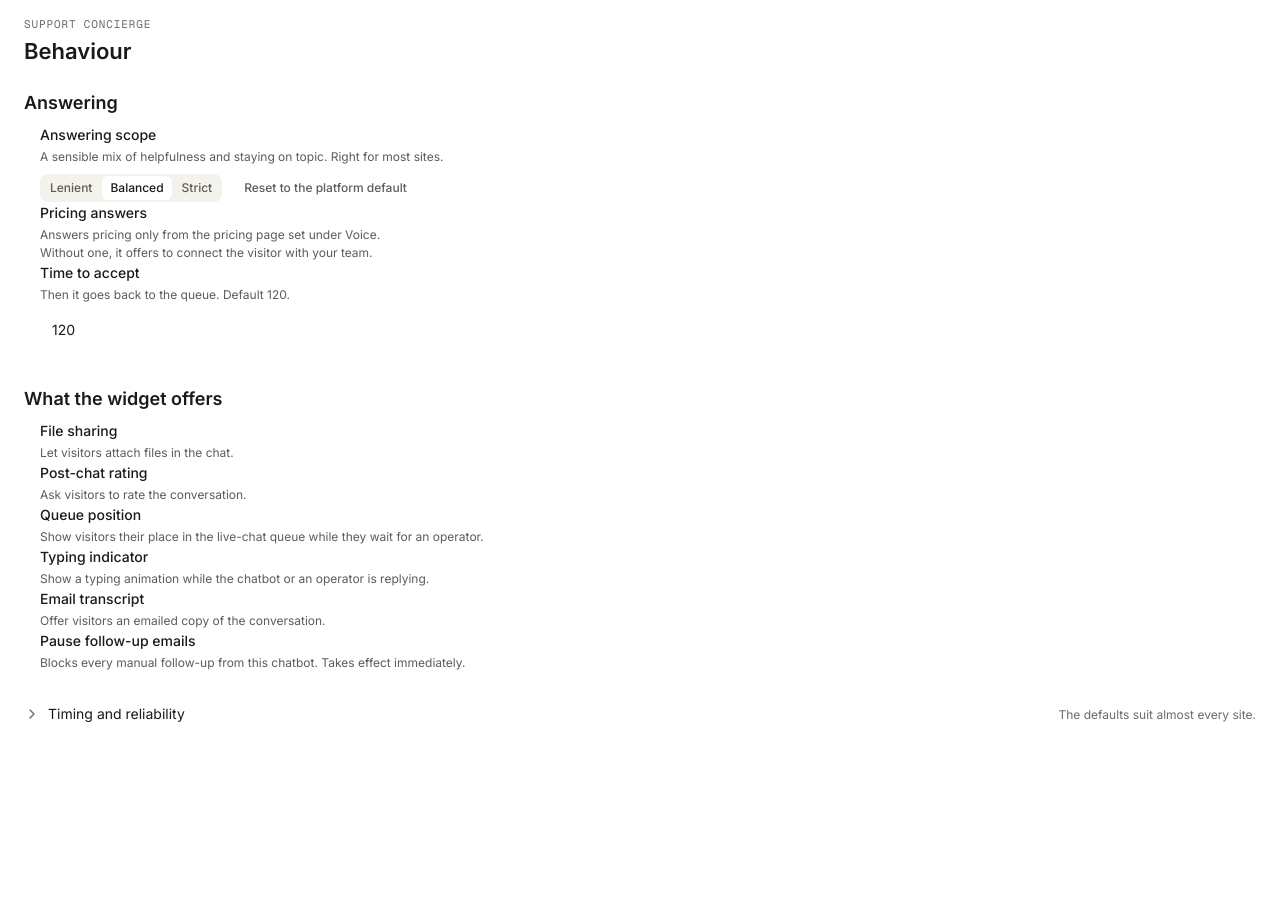
Test case: timing and reliability › is behind a real disclosure that unmounts its panel, not a hidden div
The image size is (1280, 900).
Expected: the heading "Answering" is shown, x1=24 y1=90 x2=118 y2=116
Expected: the field labelled "Greeting bubble delay" is not shown
Click the button "Timing and reliability The defaults suit almost every site.".
click(116, 714)  # box x1=24 y1=696 x2=1256 y2=732
(page scrolled)
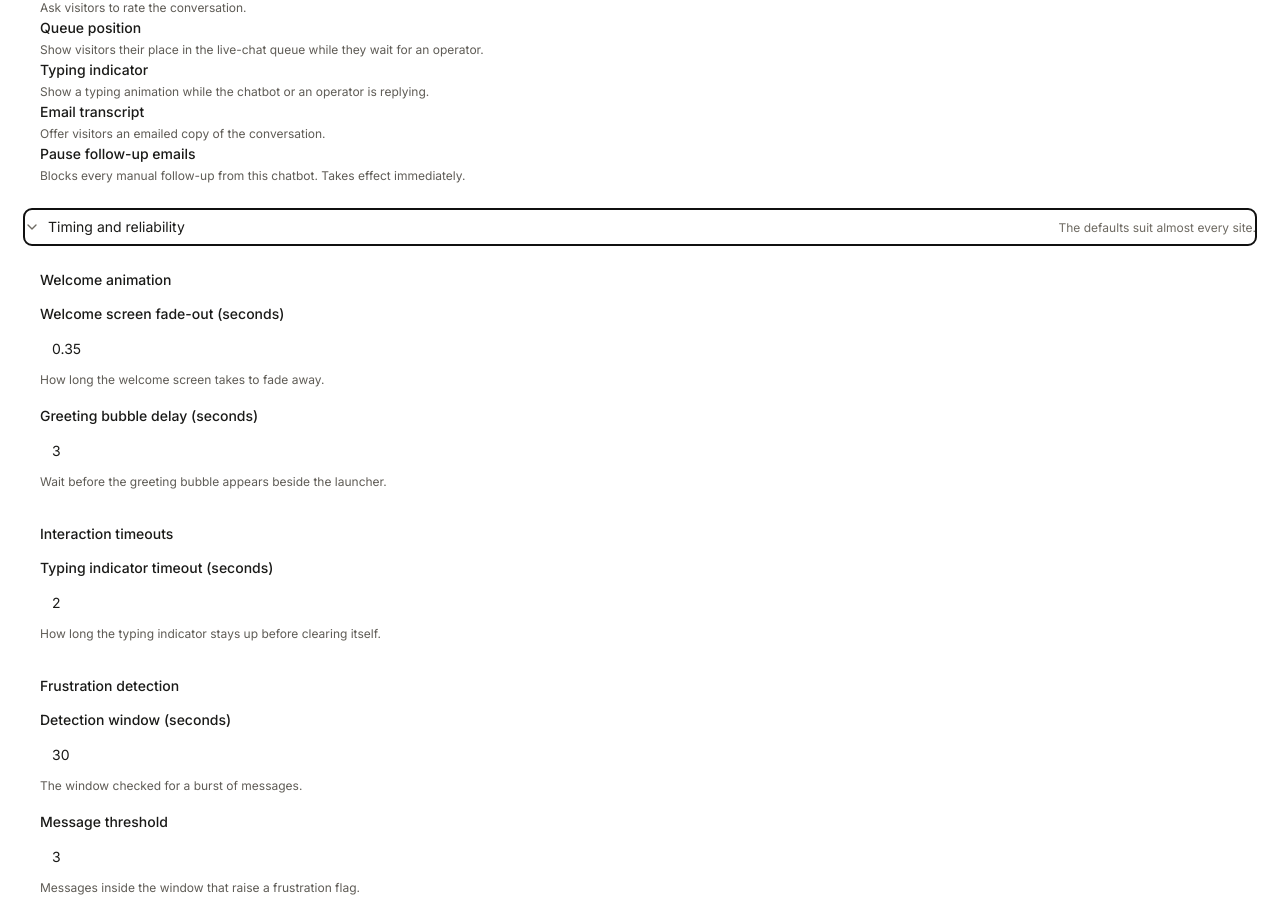
Now the button "Timing and reliability The defaults suit almost every site." is expanded, box x1=24 y1=209 x2=1256 y2=245
Now the number field labelled "Greeting bubble delay (seconds)" is shown, box x1=40 y1=433 x2=1240 y2=467
